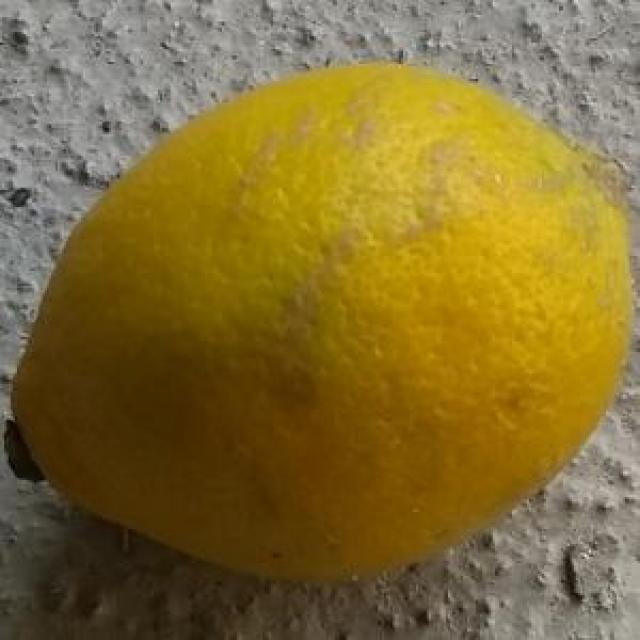lemon: (15, 56, 632, 578)
